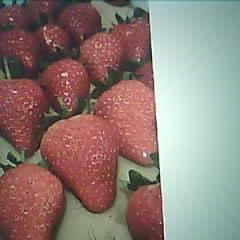straw-ripe: (43, 115, 121, 211), (97, 82, 158, 165), (0, 163, 62, 240), (0, 78, 46, 155), (45, 60, 89, 113), (80, 33, 123, 84)
